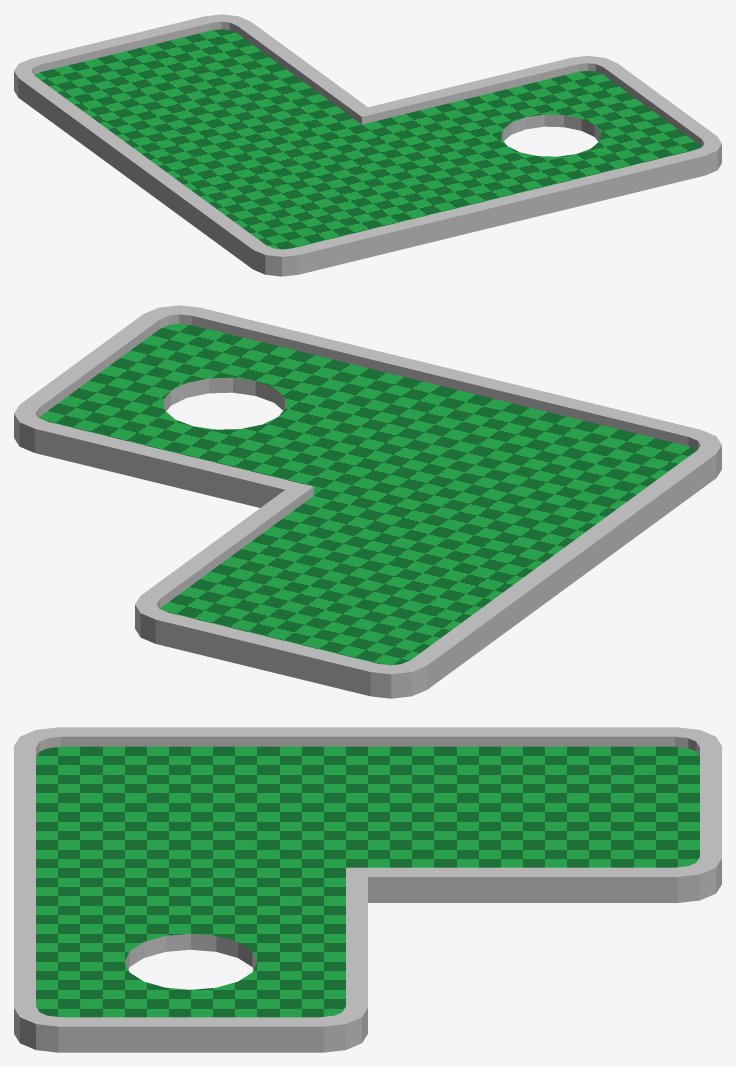
Rendered from Gamefield.fbx.
3 renders of one model, top to bottom at view 1: azimuth 30°, elevation 25°; view 2: azimuth 150°, elevation 25°; view 3: azimuth 270°, elevation 25°, orthographic. The views are drawn at different scales.
Parts seen in each view (by area): view 1: Cube; view 2: Cube; view 3: Cube.
Boxes of the visible parts, x1,y1,x2,y2 form: Cube: (14, 14, 721, 276); Cube: (14, 305, 721, 698); Cube: (14, 727, 721, 1052).
Size of the model in its own units: 800 by 32.5 by 800.
